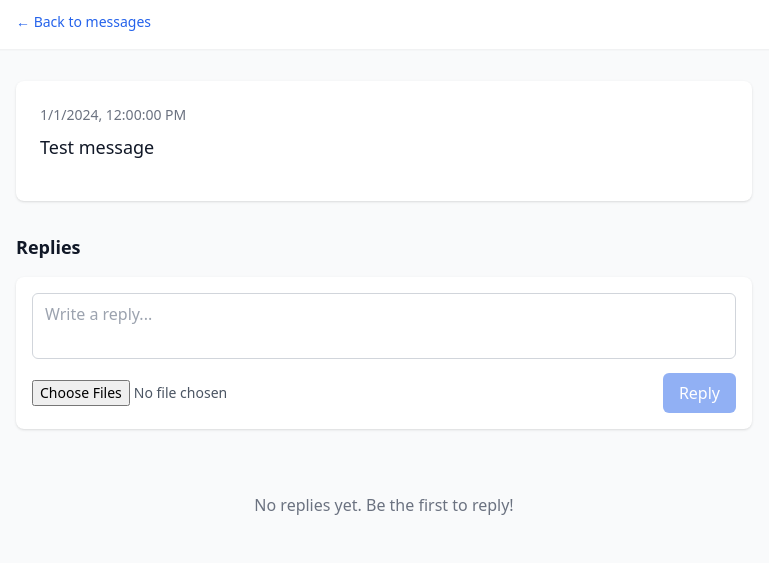
Test: MessageDetailPage › should reload message and replies after successful reply
Check: the text "No replies yet. Be the first to reply!" is shown, box [254,494,514,516]
Type "New reply" into the text box with placeholder "Write a reply..." at (384, 326), box [32,293,736,359]
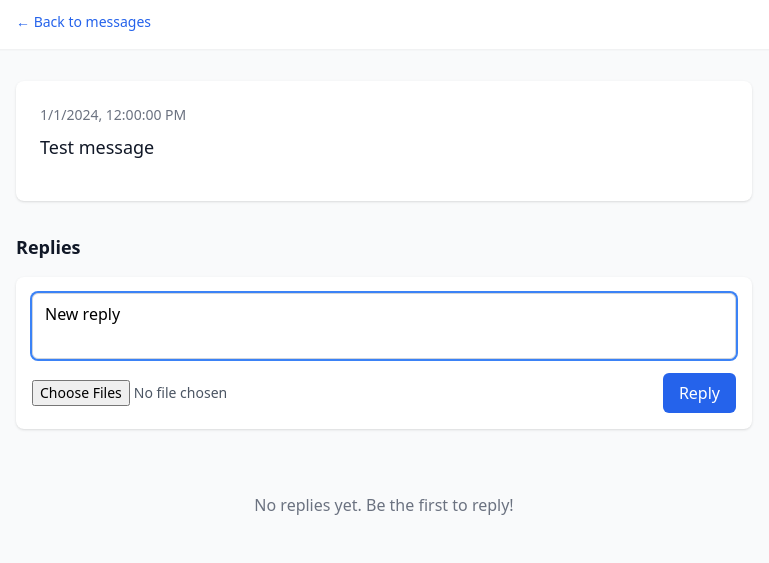
Click the button "Reply" at (699, 393), box [663,373,736,413]
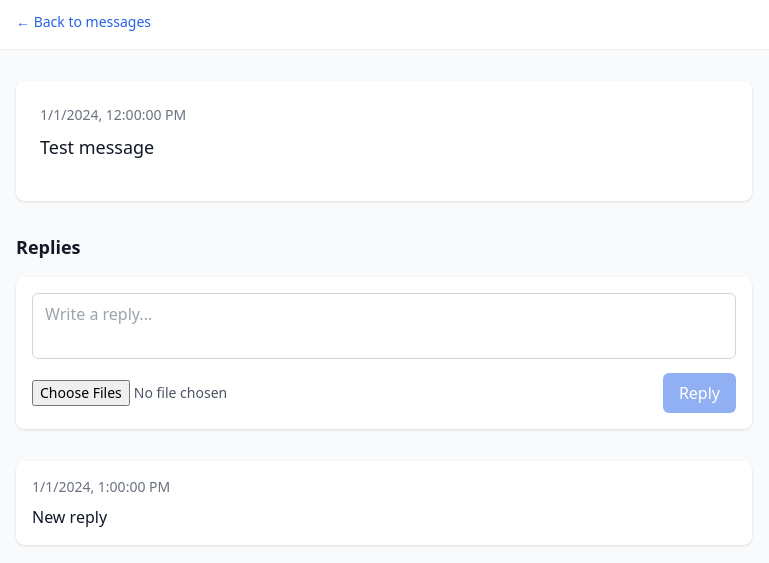
Check: the text "New reply" is shown, box [32,506,107,528]
